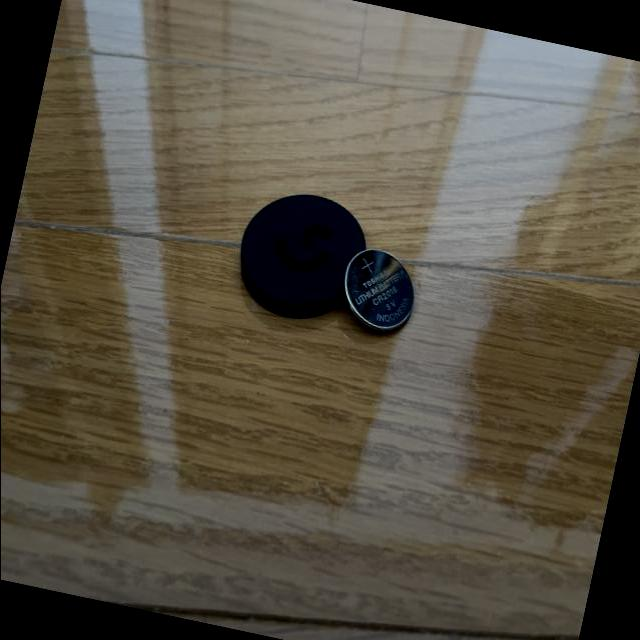COIN: (333, 242, 425, 338)
